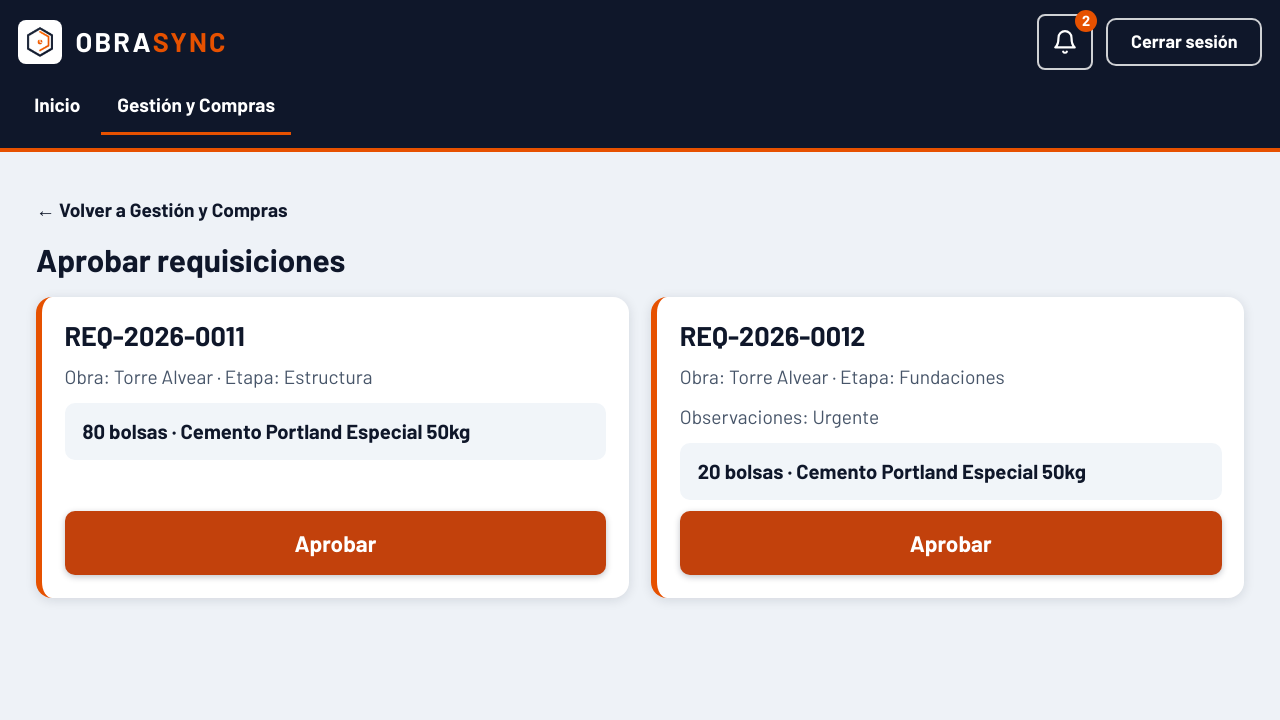
Test: App - campana de notificaciones › al aprobar una requisición el número de la campana baja
Expected: the button named "Notificaciones: 2 sin leer" is shown, [1037,14,1093,70]
Click the button with aria-label "Aprobar REQ-2026-0011": [335, 543] box [64,511,606,575]
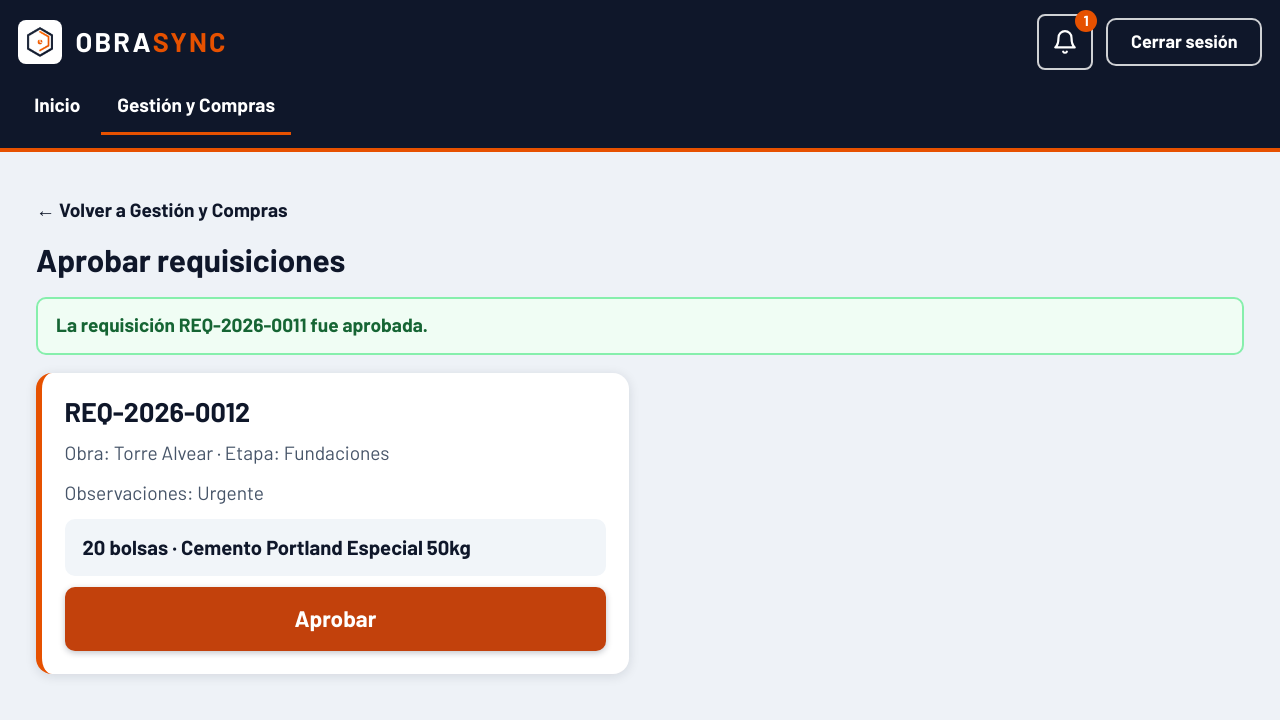
Result: the button named "Notificaciones: 1 sin leer" is shown at [1037,14,1093,70]
